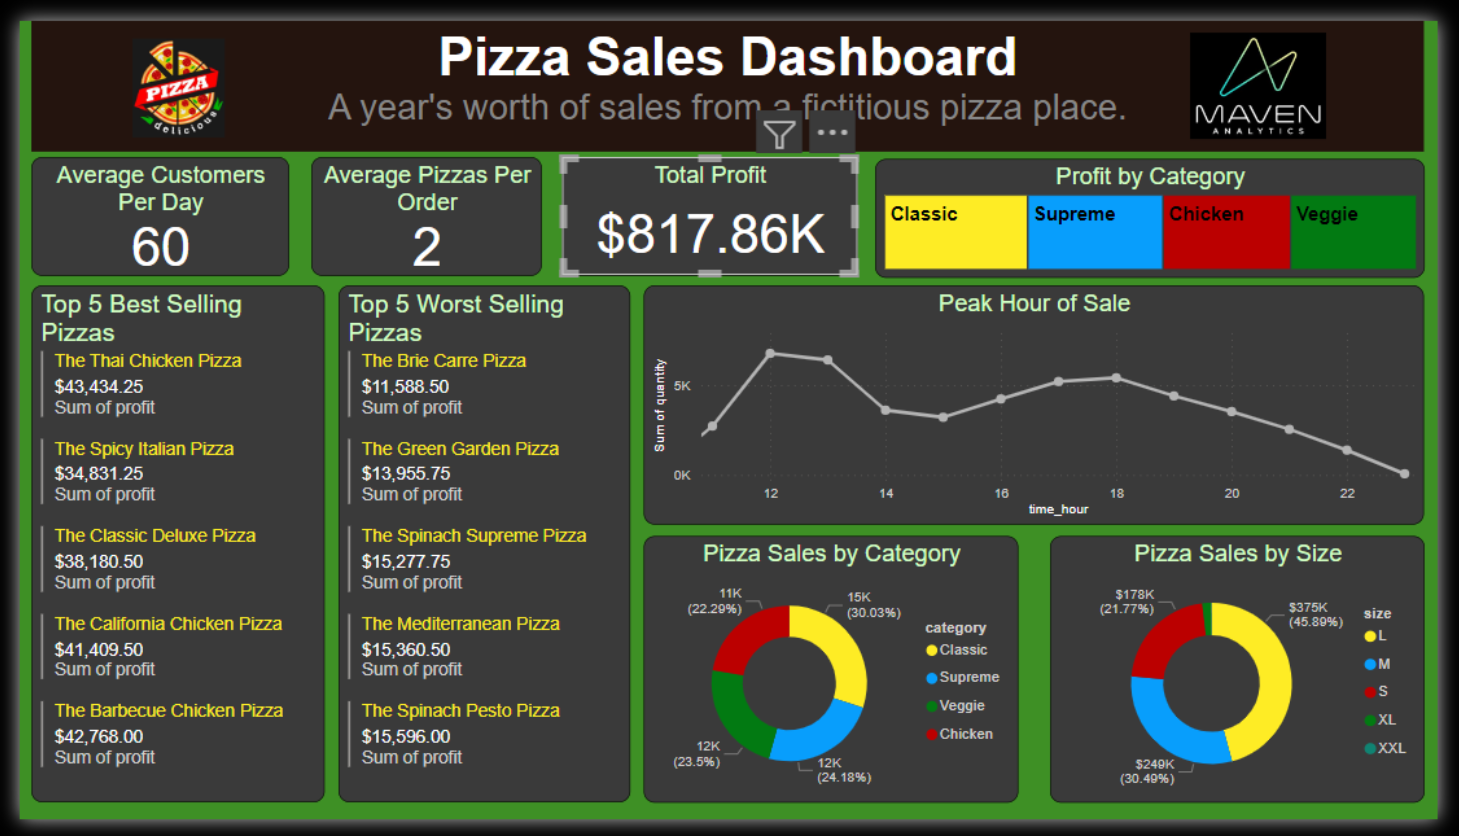

This screenshot's page, from the dashboard's own definition file:
{"tool":"powerbi","page":{"name":"Page 1","canvas":[1280,720],"ordinal":0},"visuals":[{"type":"lineChart","title":"Peak Hour of Sale","fields":{"Category":["new_pizza.time_hour"],"Y":["Sum(new_pizza.quantity)"]},"box":[563.4,238.8,704,215.8],"z":0},{"type":"textbox","box":[10.7,0,1256.8,117.9],"z":1000},{"type":"card","title":"Average Customers Per Day","fields":{"Values":["new_pizza.Count of order_id average per day_of_year"]},"box":[10.7,123.5,232.7,107.2],"z":2000},{"type":"card","title":"Average Pizzas Per Order","fields":{"Values":["new_pizza.quantity average per order_id"]},"box":[263.3,123.5,208.2,107.2],"z":3000},{"type":"card","title":"Total Profit","fields":{"Values":["Sum(new_pizza.profit)"]},"box":[489.9,123.5,266.4,107.2],"z":4000},{"type":"multiRowCard","title":"Top 5 Best Selling Pizzas","fields":{"Values":["new_pizza.name","Sum(new_pizza.profit)"]},"box":[10.7,238.8,264.8,466.9],"z":5000},{"type":"multiRowCard","title":"Top 5 Worst Selling Pizzas","fields":{"Values":["new_pizza.name","Sum(new_pizza.profit)"]},"box":[287.8,238.8,263.3,466.9],"z":6000},{"type":"treemap","title":"Profit by Category","fields":{"Group":["new_pizza.category"],"Values":["Sum(new_pizza.profit)"]},"box":[771.5,124,496,107.2],"z":7000},{"type":"donutChart","title":"Pizza Sales by Category","fields":{"Y":["Sum(new_pizza.quantity)"],"Category":["new_pizza.category"]},"box":[563.4,465.4,338.3,240.3],"z":8000},{"type":"donutChart","title":"Pizza Sales by Size","fields":{"Category":["new_pizza.size"],"Y":["Sum(new_pizza.profit)"]},"box":[929.2,465.4,338.3,240.3],"z":9000},{"type":"image","box":[87.3,10.7,111.8,99.5],"z":9001},{"type":"image","box":[1050.2,6.1,133.2,107.2],"z":9002}]}

Visuals, with their boxes in screenshot pixels (x1, y1, x2, y2), scaled from the page's 1280x720 canvas onto the 1459x836 screenshot:
"Peak Hour of Sale" lineChart: {"x1": 642, "y1": 277, "x2": 1445, "y2": 528}
textbox: {"x1": 12, "y1": 0, "x2": 1445, "y2": 137}
"Average Customers Per Day" card: {"x1": 12, "y1": 143, "x2": 277, "y2": 268}
"Average Pizzas Per Order" card: {"x1": 300, "y1": 143, "x2": 537, "y2": 268}
"Total Profit" card: {"x1": 558, "y1": 143, "x2": 862, "y2": 268}
"Top 5 Best Selling Pizzas" multiRowCard: {"x1": 12, "y1": 277, "x2": 314, "y2": 819}
"Top 5 Worst Selling Pizzas" multiRowCard: {"x1": 328, "y1": 277, "x2": 628, "y2": 819}
"Profit by Category" treemap: {"x1": 879, "y1": 144, "x2": 1445, "y2": 268}
"Pizza Sales by Category" donutChart: {"x1": 642, "y1": 540, "x2": 1028, "y2": 819}
"Pizza Sales by Size" donutChart: {"x1": 1059, "y1": 540, "x2": 1445, "y2": 819}
image: {"x1": 100, "y1": 12, "x2": 227, "y2": 128}
image: {"x1": 1197, "y1": 7, "x2": 1349, "y2": 132}
